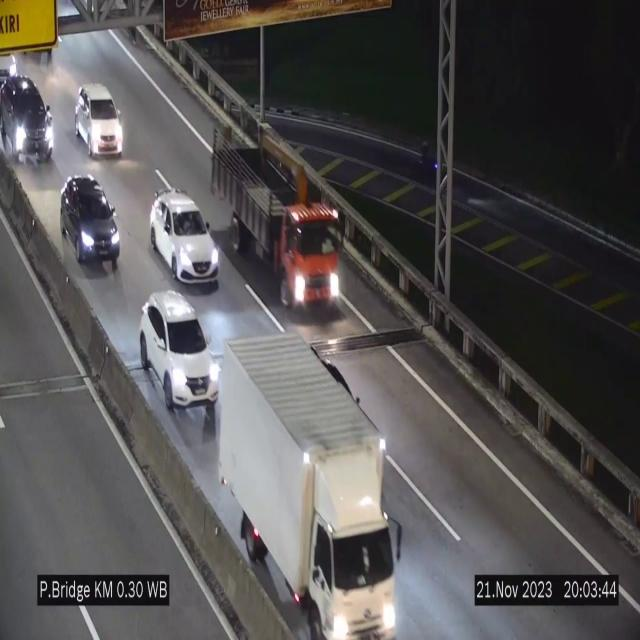Car: (140, 292, 214, 404), (150, 187, 219, 287), (60, 175, 120, 269), (2, 74, 52, 164), (75, 84, 123, 156)
Motorcycle: (410, 124, 446, 192)
Truck: (218, 333, 406, 640), (212, 130, 342, 308)
